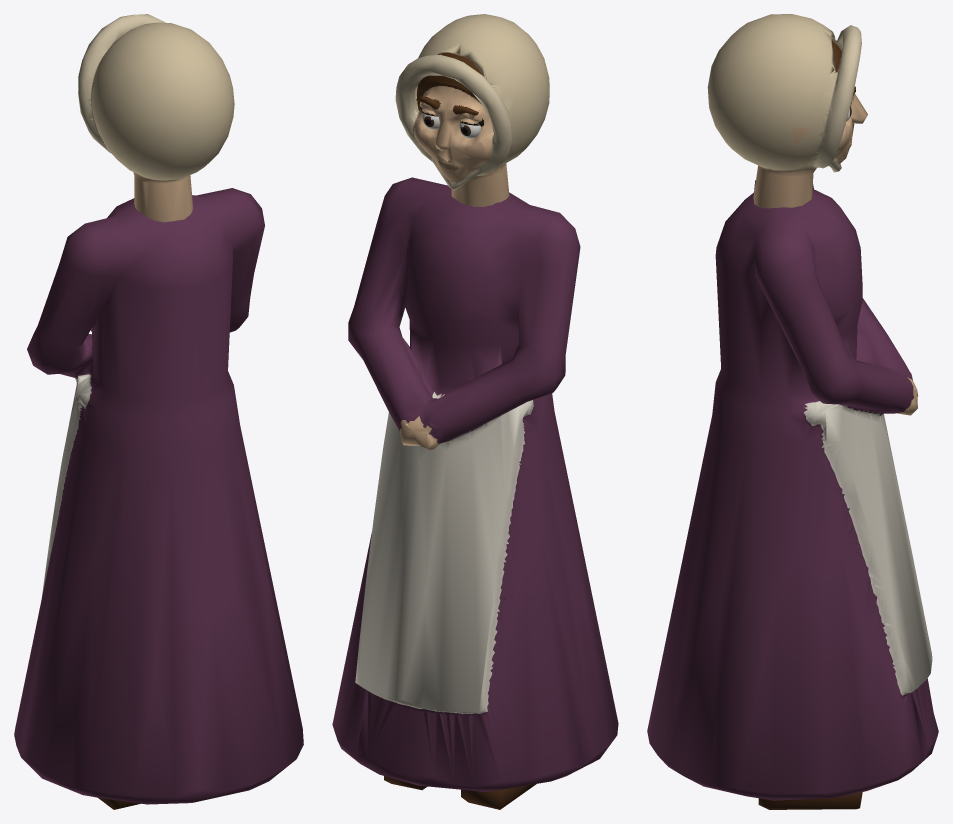
Rendered from woman-a.glb.
3 views of the same model, side by side, from view 1: azimuth 30°, elevation 25°; view 2: azimuth 150°, elevation 25°; view 3: azimuth 270°, elevation 25° (orthographic).
Visible parts, largest first — view 1: body_lod0, head_lod0; view 2: body_lod0, head_lod0; view 3: body_lod0, head_lod0.
Boxes of the visible parts, x1=… form: body_lod0: x1=14, y1=188, x2=303, y2=809; head_lod0: x1=78, y1=14, x2=234, y2=222; body_lod0: x1=332, y1=177, x2=618, y2=809; head_lod0: x1=395, y1=14, x2=549, y2=206; body_lod0: x1=647, y1=180, x2=938, y2=809; head_lod0: x1=707, y1=14, x2=867, y2=208.
Size of what is drawn, in the model's own units: 0.6607 by 1.93 by 0.6636.
